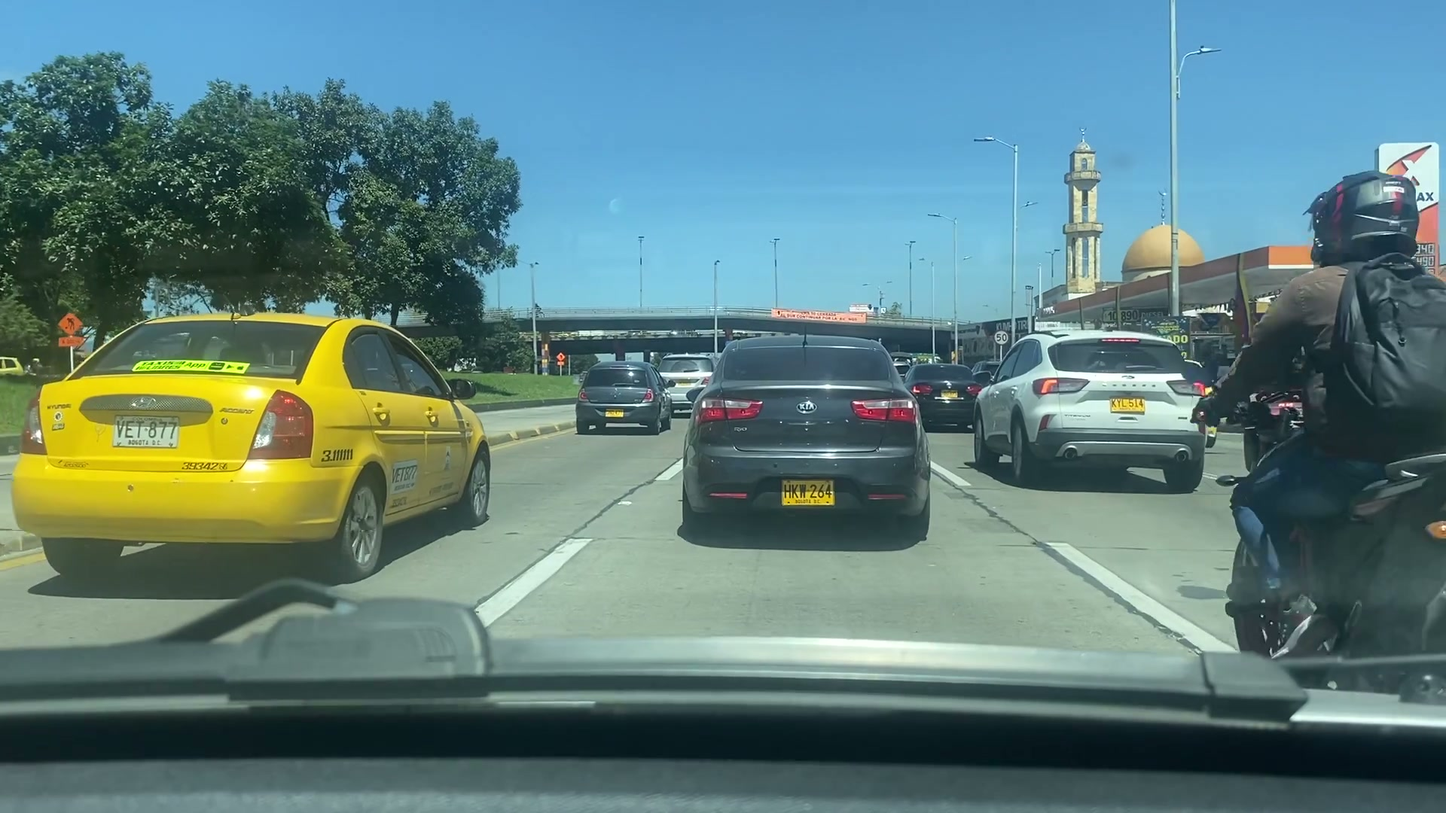car: (13, 307, 500, 575), (682, 336, 934, 539), (970, 326, 1217, 491), (575, 359, 676, 434), (907, 360, 980, 426), (651, 351, 718, 410)
motorcycle: (1187, 378, 1446, 699)
person: (1203, 160, 1442, 667)
